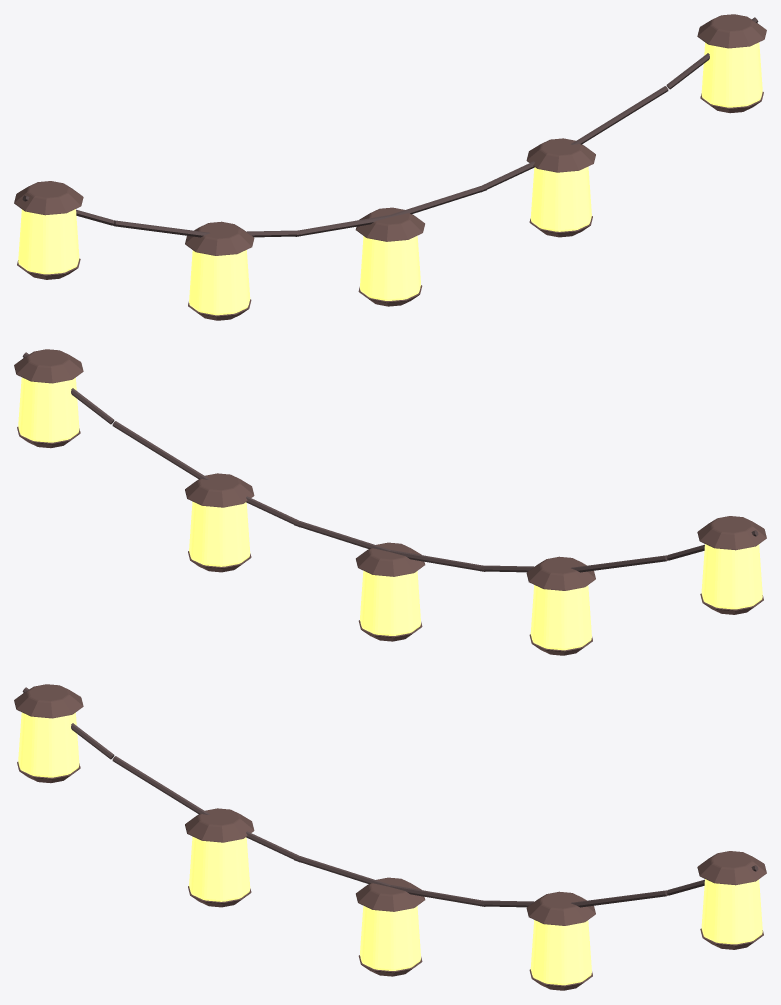
The model's file is lantern_garland.glb.
The picture shows the model from 3 angles, top to bottom: view 1: azimuth 30°, elevation 25°; view 2: azimuth 150°, elevation 25°; view 3: azimuth 330°, elevation 25°; orthographic projection.
Parts seen in each view (by area): view 1: Lantern0, CapB0, Cord0; view 2: Lantern0, CapB0, Cord0; view 3: Lantern0, CapB0, Cord0.
Boxes of the visible parts, left/top/right/bottom form: Lantern0: left=18, top=42, right=762, bottom=315; CapB0: left=14, top=14, right=766, bottom=320; Cord0: left=22, top=17, right=758, bottom=237; Lantern0: left=18, top=377, right=762, bottom=650; CapB0: left=14, top=349, right=766, bottom=655; Cord0: left=22, top=352, right=758, bottom=572; Lantern0: left=18, top=712, right=762, bottom=985; CapB0: left=14, top=684, right=766, bottom=990; Cord0: left=22, top=687, right=758, bottom=907.
Bounding box in the file's own units: 11.29 × 2.79 × 0.9383.
